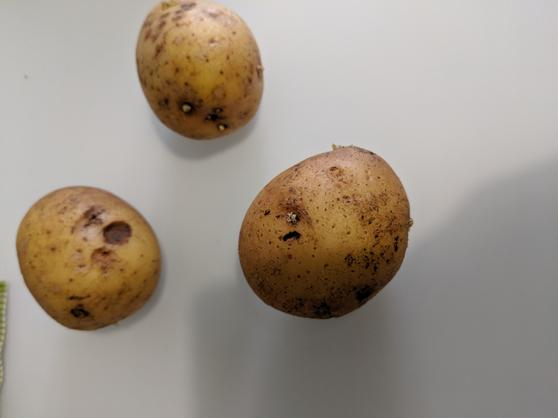potato: (240, 144, 411, 322), (17, 184, 164, 333), (134, 1, 265, 137)
